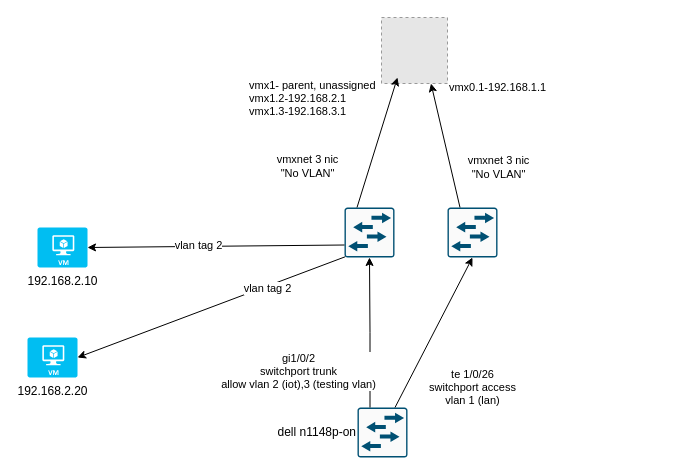
Some shapes in this 683 by 475 pixel diagram are drawn without their labels. Grey dashed boxes stand in for pictures. The centre of each missing label's shape, as x and y in pixels:
"vmbr 0 not vlan aware management on 192.168.1.100" goes at (x=472, y=232).
"vmbr 1 vlan aware bridge-vids 2;3" goes at (x=369, y=232).
